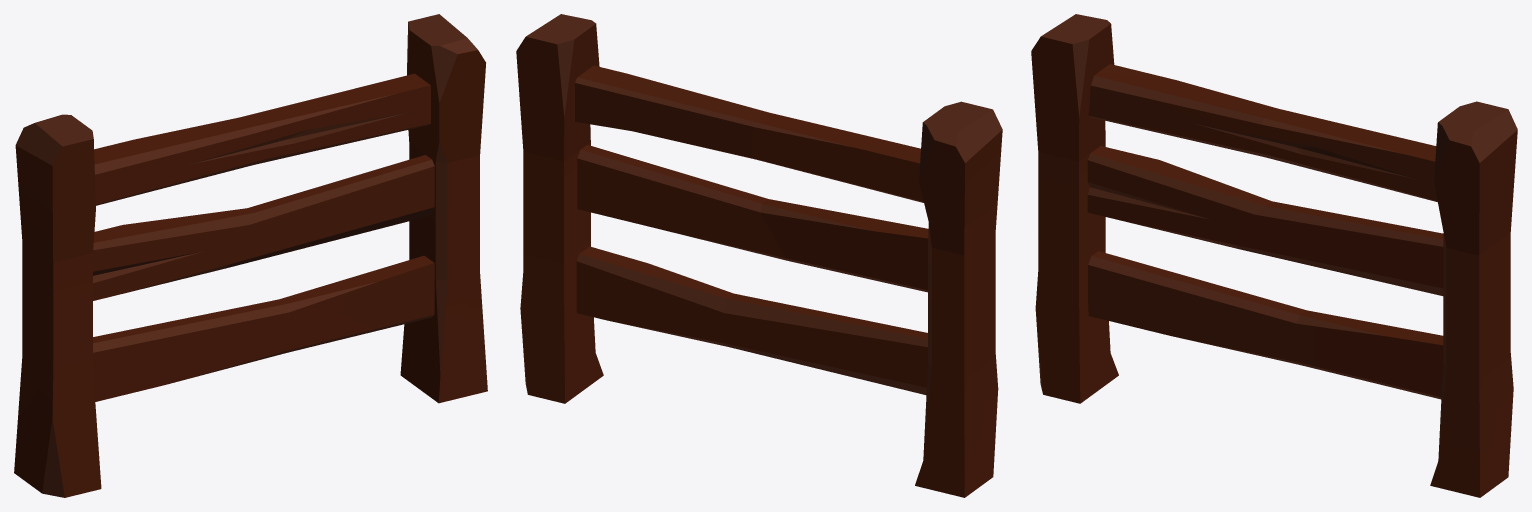
The model's file is Fence_5_1.fbx.
3 renders of one model, left to right at view 1: azimuth 30°, elevation 25°; view 2: azimuth 150°, elevation 25°; view 3: azimuth 330°, elevation 25°, orthographic.
Parts seen in each view (by area): view 1: Fence_5_1; view 2: Fence_5_1; view 3: Fence_5_1.
Boxes of the visible parts, x1,y1,x2,y2 form: Fence_5_1: (14, 14, 487, 497); Fence_5_1: (516, 14, 1002, 497); Fence_5_1: (1031, 14, 1517, 497).
Bounding box in the file's own units: 53.2 × 40.75 × 8.75.
